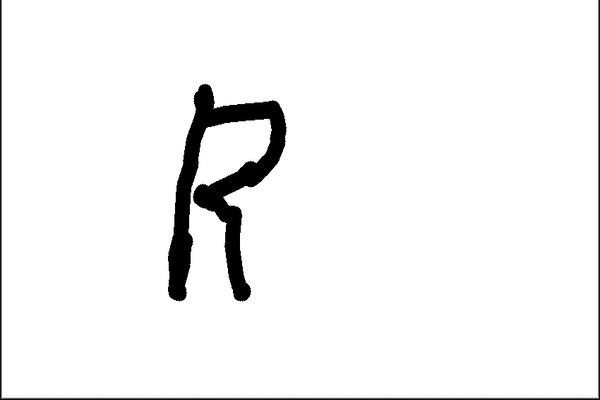R: (162, 71, 296, 308)
